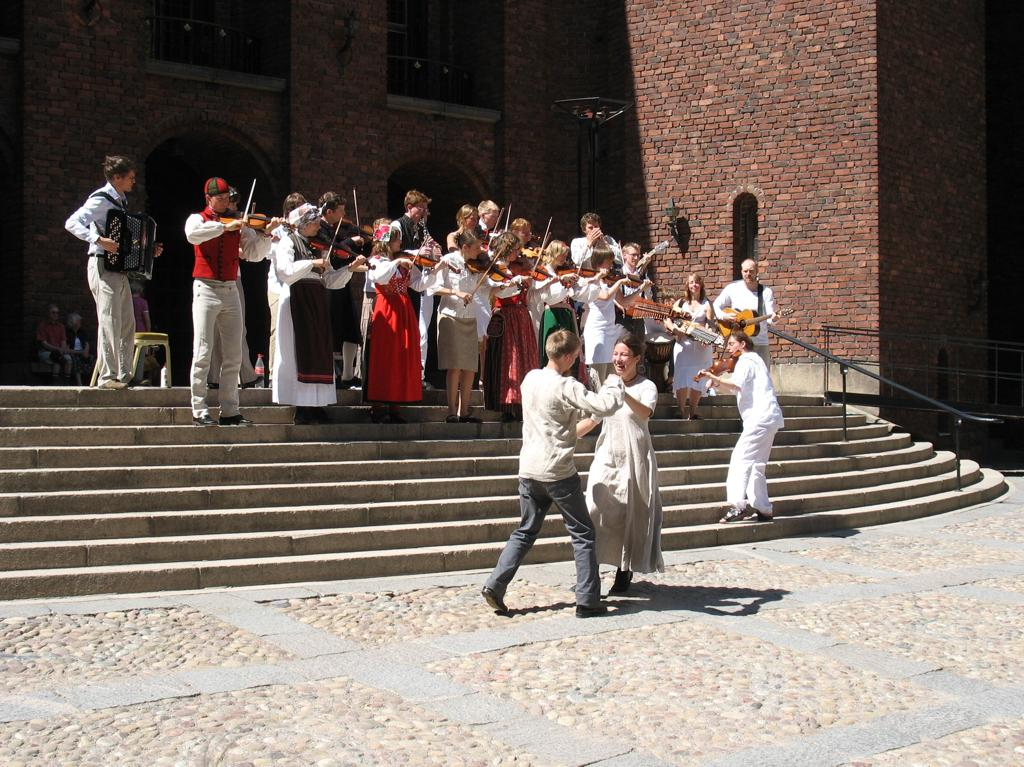face: (613, 344, 634, 374), (210, 190, 229, 211), (119, 170, 135, 192), (306, 215, 321, 235), (726, 337, 741, 357), (742, 264, 756, 284), (389, 231, 402, 252), (411, 203, 426, 220), (331, 203, 344, 222), (484, 211, 498, 228), (467, 241, 480, 259), (463, 212, 476, 230), (626, 249, 640, 265), (507, 243, 519, 261), (586, 220, 599, 236), (555, 249, 567, 266), (517, 227, 529, 244), (688, 276, 699, 292), (600, 255, 611, 271)
